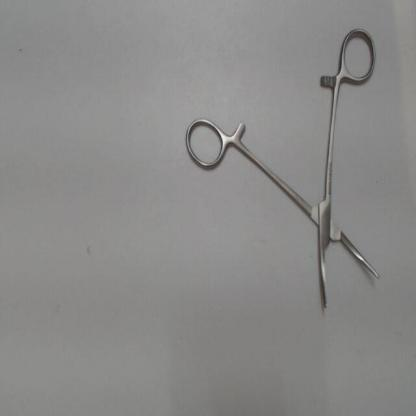Crile Artery Forceps: (180, 19, 386, 318)
